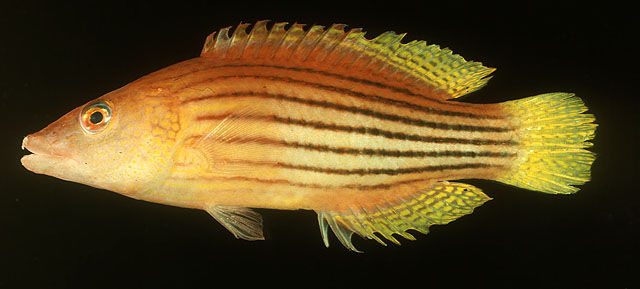fish: (20, 19, 599, 252)
